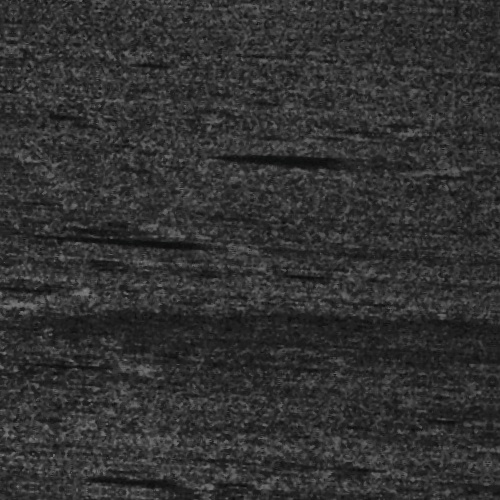object: (323, 148, 448, 161), (208, 242, 271, 253), (0, 310, 64, 319), (170, 480, 211, 487)
shadow: (248, 148, 386, 161), (99, 242, 239, 253), (90, 480, 190, 487), (0, 310, 22, 319)
